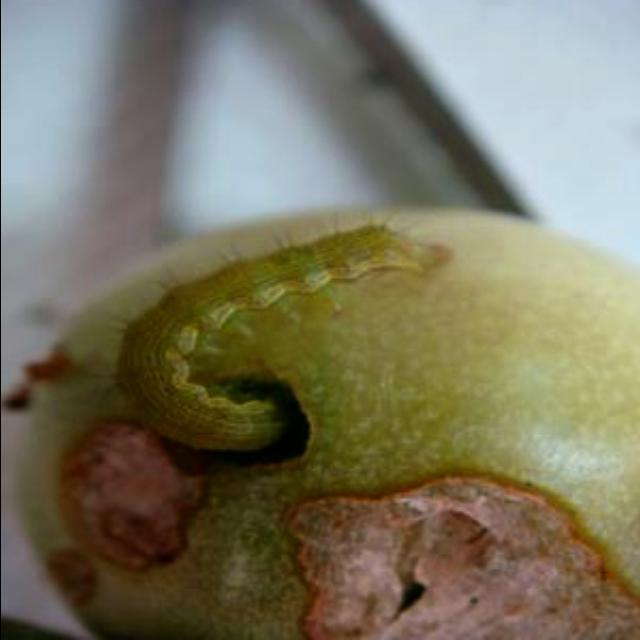Cotton bollworm: (119, 207, 481, 453)
